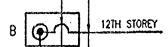Single Phase Tap-Off Unit: (21, 10, 86, 47)
